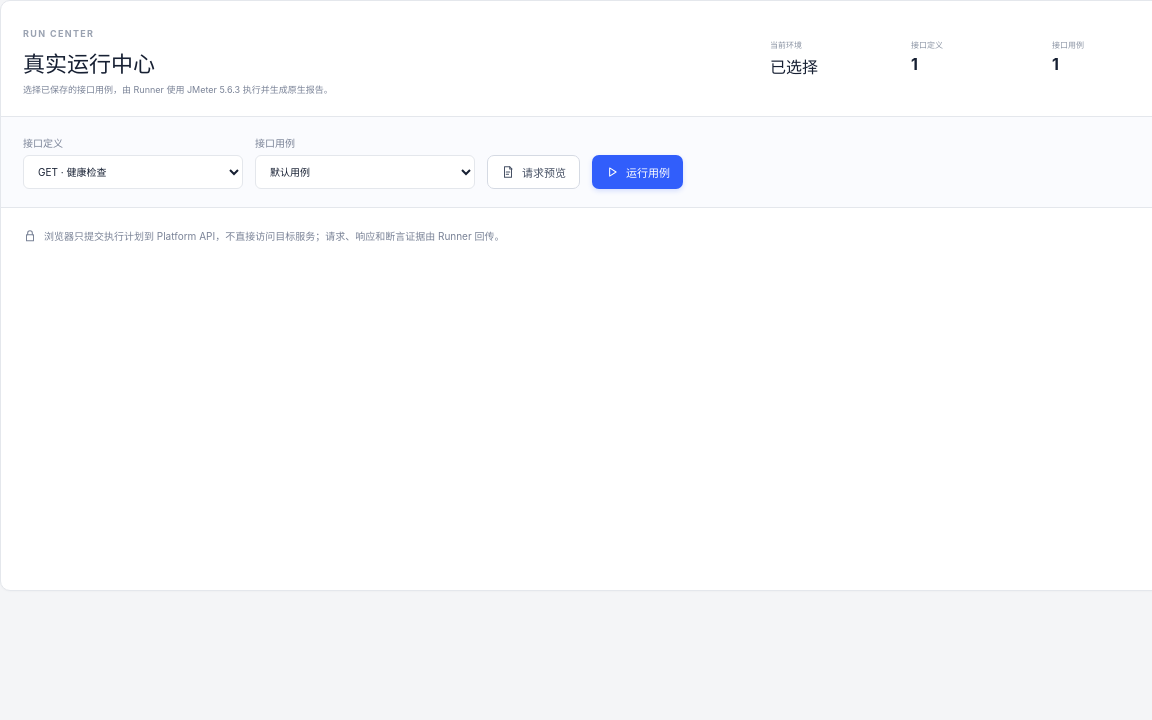
Test: 运行中心环境默认请求配置 › 请求预览展示最终 URL 和环境 Header，并固定掩码敏感值
Click the button "请求预览" at point(534, 172), box [487,155,580,189]
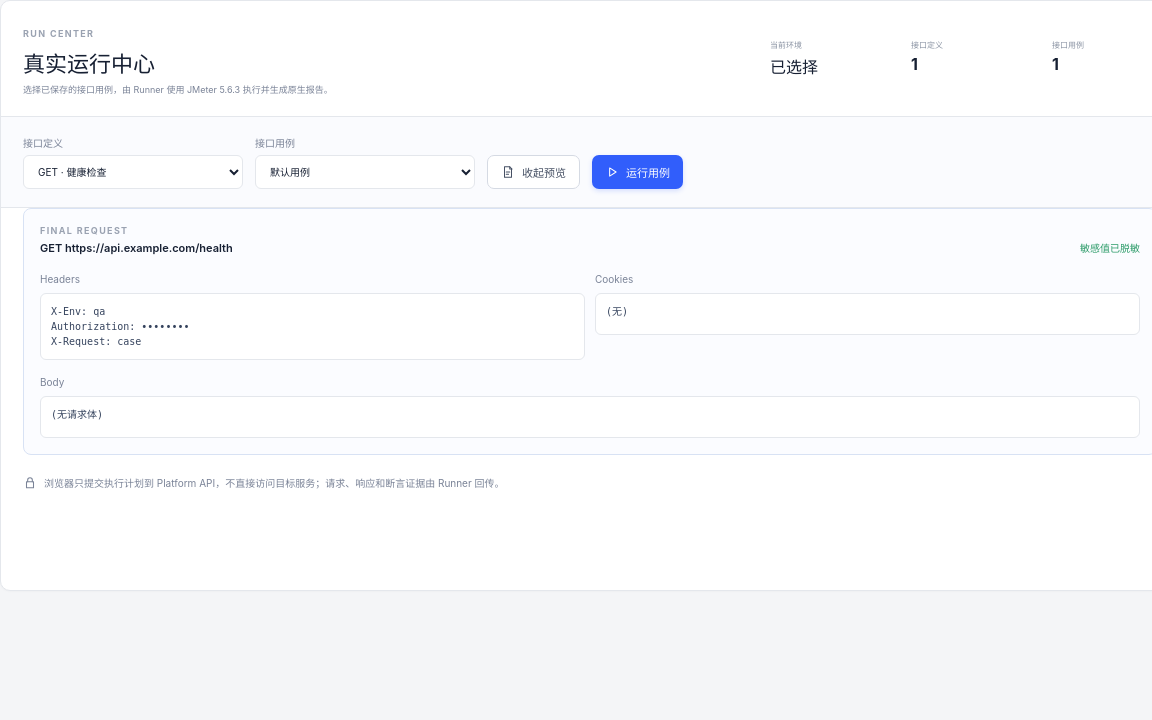
Expected: the element with test id "request-preview" shows "https://api.example.com/health", [40,241,233,255]
Expected: the element with test id "request-preview" shows "X-Env: qa", [51,306,190,347]
Expected: the element with test id "request-preview" shows "Authorization: ••••••••", [51,306,190,347]
